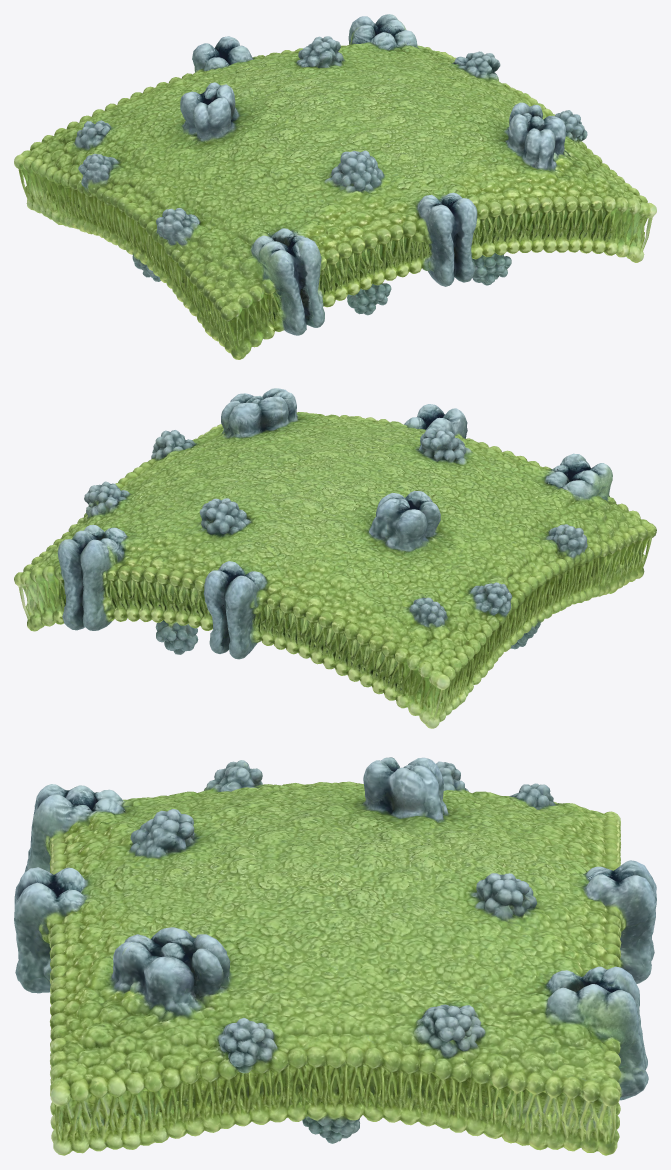
Rendered from membrane.glb.
3 views of the same model, one above another, from view 1: azimuth 30°, elevation 25°; view 2: azimuth 150°, elevation 25°; view 3: azimuth 270°, elevation 25° (orthographic). The views are drawn at different scales.
Visible parts, largest first — view 1: mesh_node; view 2: mesh_node; view 3: mesh_node.
Boxes of the visible parts, x1,y1,x2,y2 form: mesh_node: (14, 14, 656, 359); mesh_node: (14, 388, 656, 728); mesh_node: (14, 757, 656, 1155).
Size of the model in its own units: 1.9 by 0.6356 by 1.83.
1 material, 1 textured.
